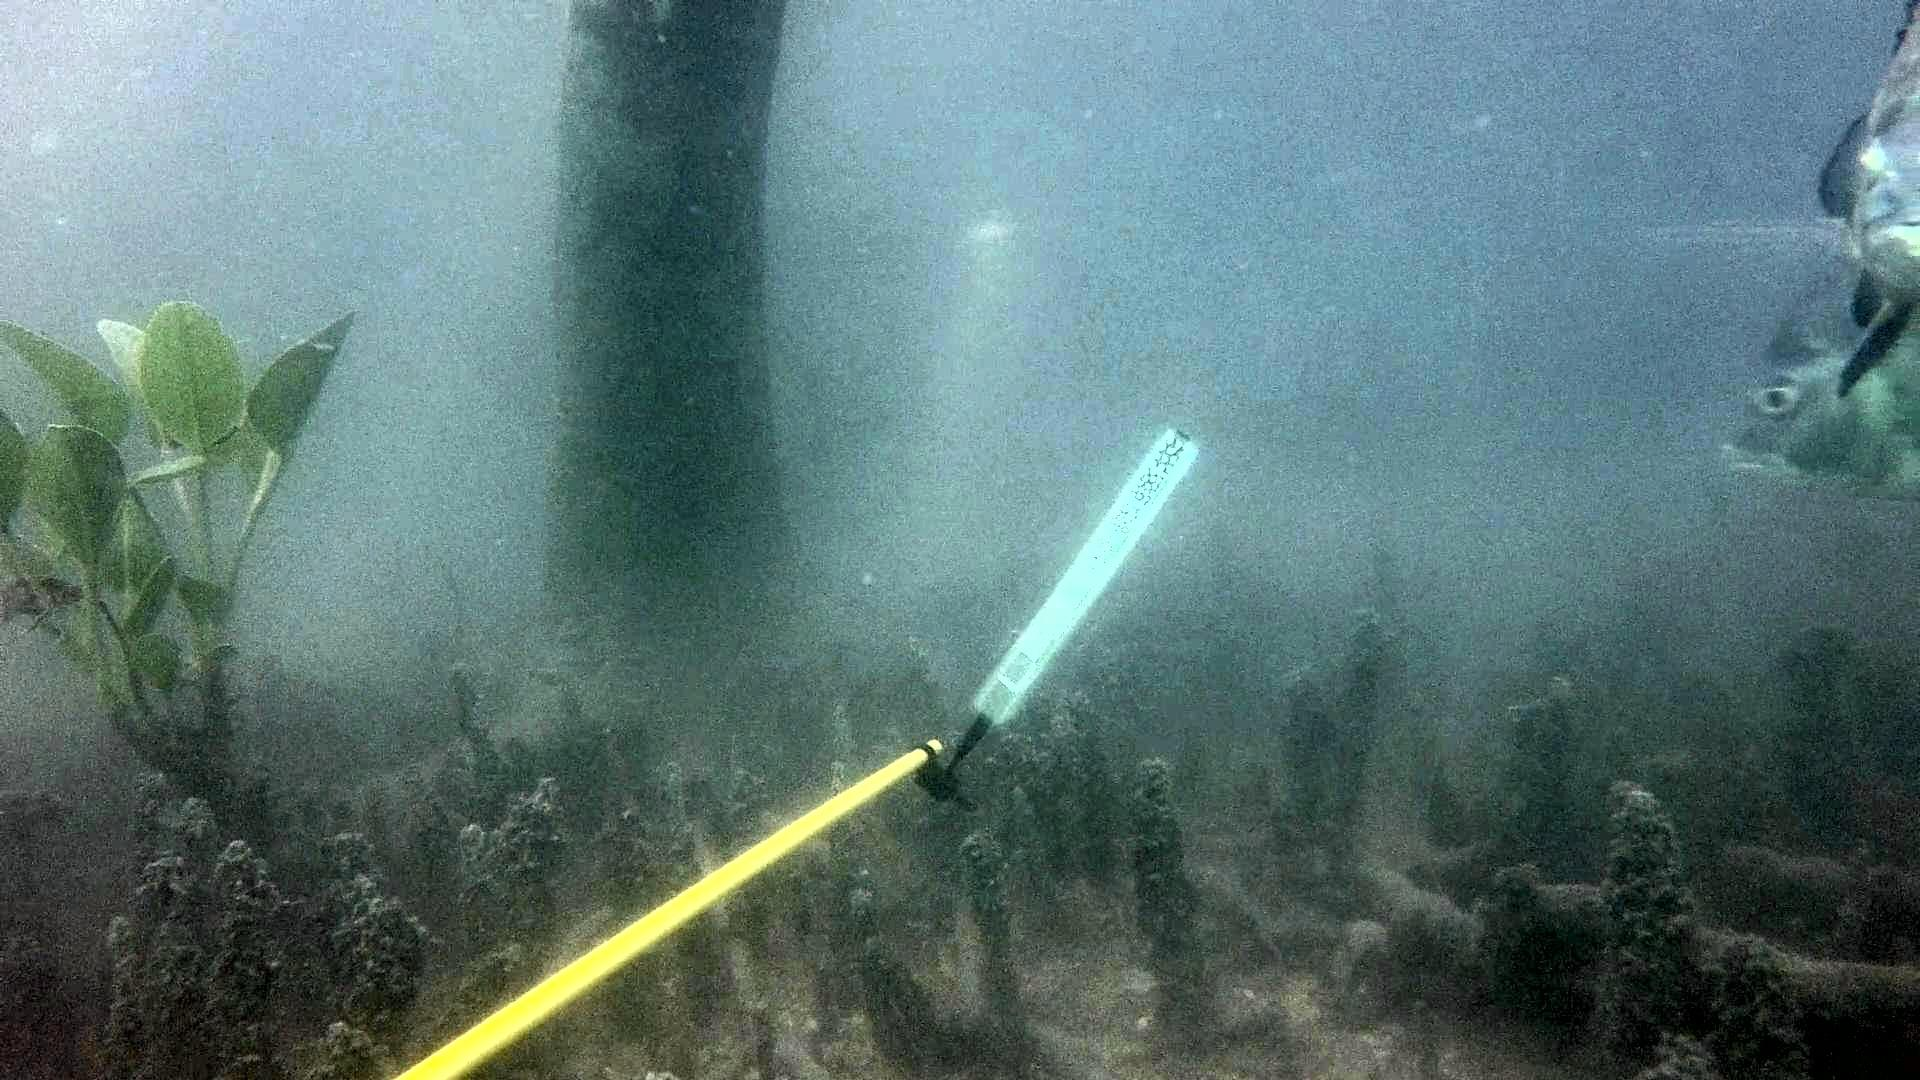acanthopagrus palmaris: (1618, 0, 1920, 410), (1696, 233, 1920, 522)
